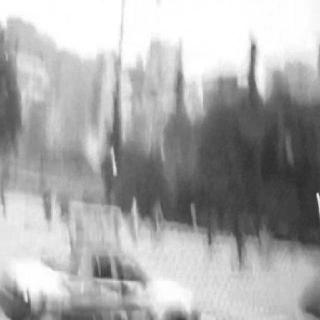other: (13, 280, 35, 308)
